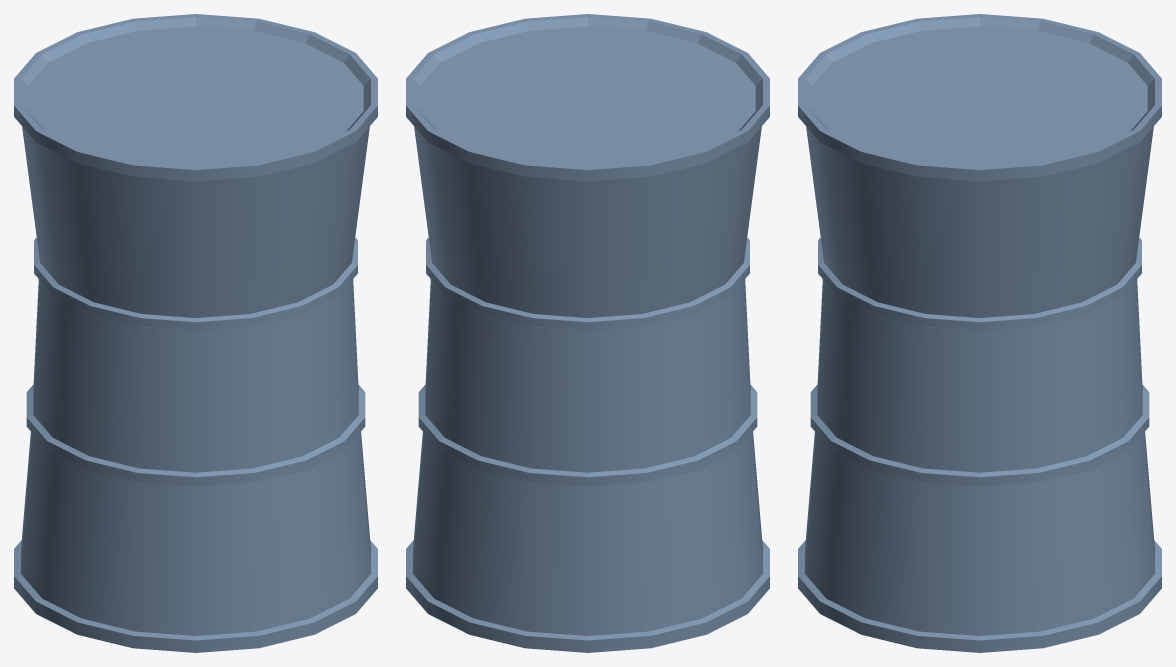
Rendered from rcBarrelSquished.FBX.
The picture shows the model from 3 angles, left to right: view 1: azimuth 30°, elevation 25°; view 2: azimuth 150°, elevation 25°; view 3: azimuth 270°, elevation 25°; orthographic projection.
Visible parts, largest first — view 1: rcBarrelSquished; view 2: rcBarrelSquished; view 3: rcBarrelSquished.
Boxes of the visible parts, left/top/right/bottom form: rcBarrelSquished: left=14, top=14, right=377, bottom=652; rcBarrelSquished: left=406, top=14, right=769, bottom=652; rcBarrelSquished: left=798, top=14, right=1161, bottom=652.
Bounding box in the file's own units: 0.52 × 0.75 × 0.5121.
